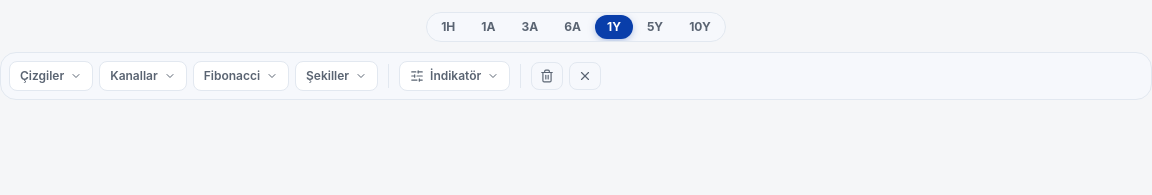
it: FxChart — çizim aracı etkileşimi › "Tüm çizimleri temizle" chart.removeOverlay() çağırır ve aktif aracı sıfırlar
Önce bir araç seç → rozet açılır
Click the button "Şekiller" at coordinates (336, 76), box [295,61,378,91]
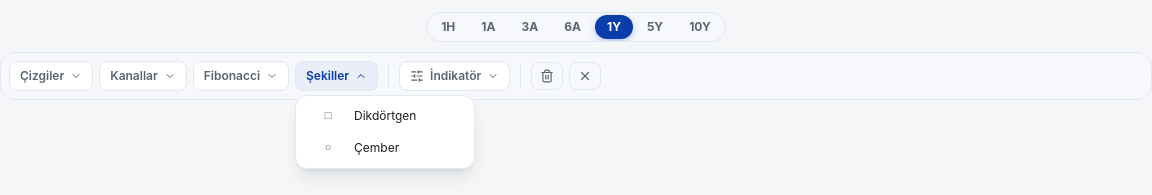
Click the button "□ Dikdörtgen" at coordinates (385, 116), box [300,100,470,132]
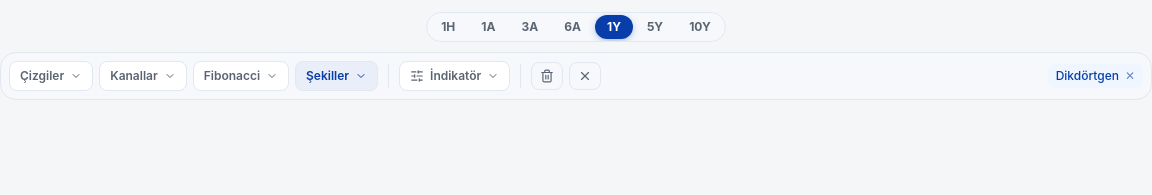
Check: the button "✕" is shown, box [1125,68,1135,84]
Click the button titled "Tüm çizimleri temizle" at coordinates (585, 76), box [569,62,601,90]
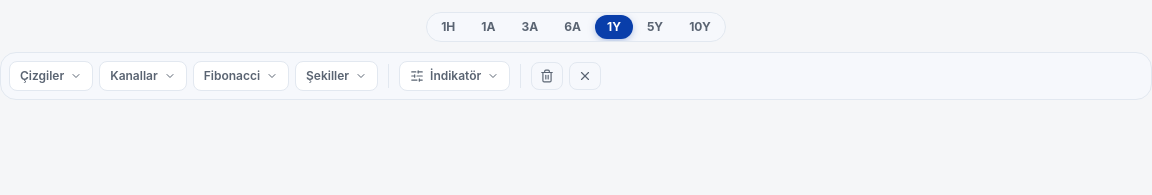
Check: the button "✕" is gone
